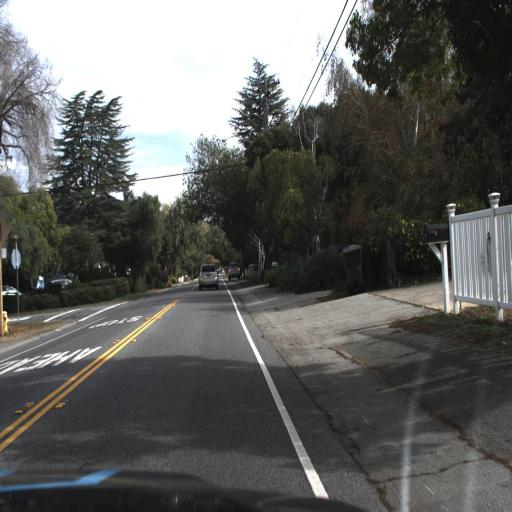car: (197, 261, 221, 290), (227, 262, 243, 281)
